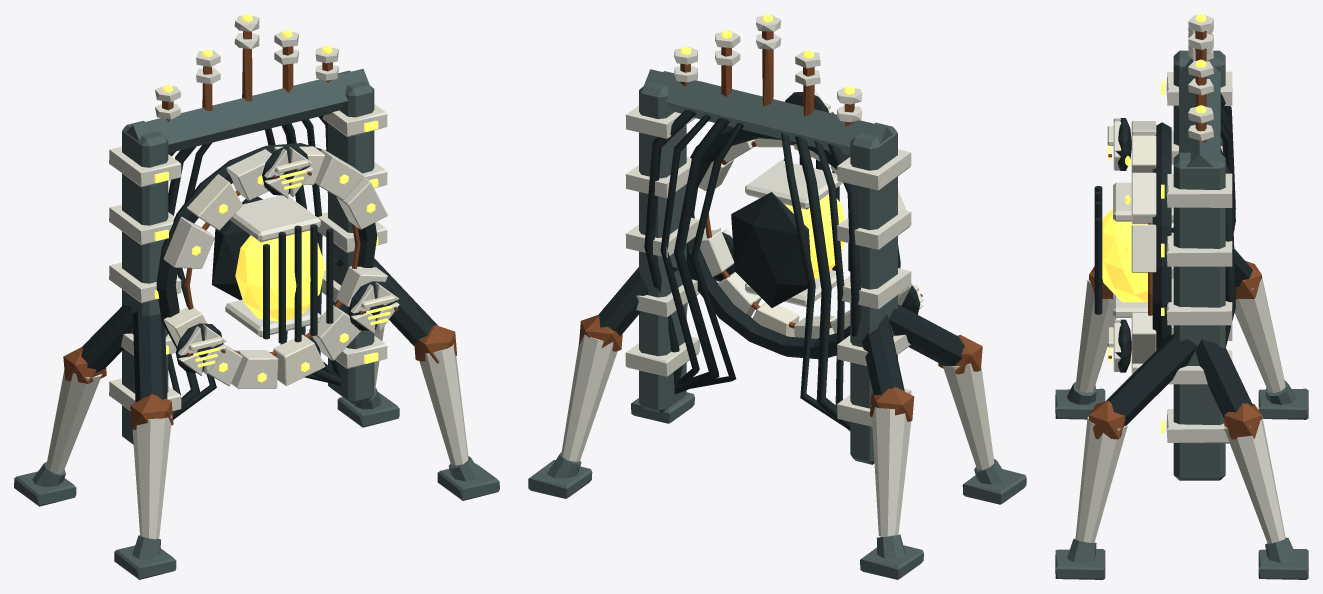
The model's file is boss_relay.glb.
3 renders of one model, left to right at view 1: azimuth 30°, elevation 25°; view 2: azimuth 150°, elevation 25°; view 3: azimuth 270°, elevation 25°, orthographic. The views are drawn at different scales.
Visible parts, largest first — view 1: body.003_mesh, halo_mesh, core.002_mesh, mask_right.001_mesh, mask_left.001_mesh, head.003_mesh; view 2: body.003_mesh, core.002_mesh, halo_mesh; view 3: body.003_mesh, halo_mesh, core.002_mesh, mask_left.001_mesh, head.003_mesh.
Boxes of the visible parts, left/top/right/bottom form: body.003_mesh: left=14, top=14, right=499, bottom=579; halo_mesh: left=156, top=143, right=387, bottom=388; core.002_mesh: left=211, top=195, right=333, bottom=343; mask_right.001_mesh: left=175, top=323, right=226, bottom=375; mask_left.001_mesh: left=348, top=281, right=399, bottom=333; head.003_mesh: left=262, top=146, right=313, bottom=198; body.003_mesh: left=528, top=14, right=1026, bottom=579; core.002_mesh: left=731, top=156, right=850, bottom=307; halo_mesh: left=686, top=126, right=911, bottom=359; body.003_mesh: left=1055, top=14, right=1308, bottom=579; halo_mesh: left=1125, top=121, right=1171, bottom=374; core.002_mesh: left=1094, top=182, right=1173, bottom=317; mask_left.001_mesh: left=1107, top=319, right=1131, bottom=372; head.003_mesh: left=1107, top=118, right=1131, bottom=170.
Size of the model in its own units: 3.28 by 4.06 by 1.95.
